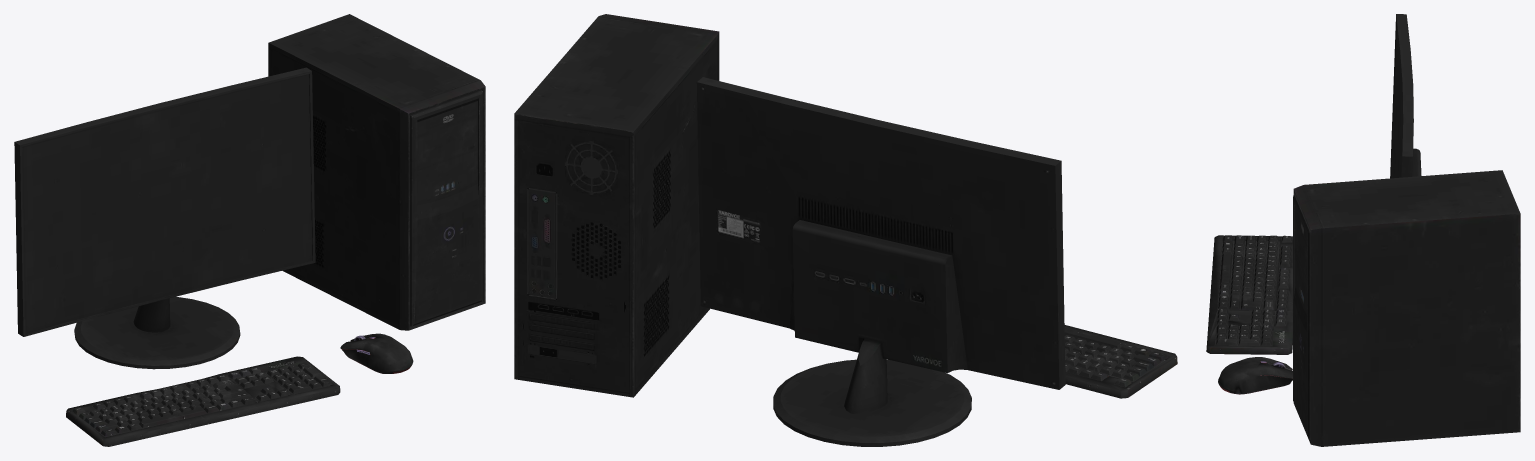
File: pcsetup.glb
The picture shows the model from 3 angles, left to right: view 1: azimuth 30°, elevation 25°; view 2: azimuth 150°, elevation 25°; view 3: azimuth 270°, elevation 25°; orthographic projection. The views are drawn at different scales.
Parts seen in each view (by area): view 1: SM_PC_Box_01; view 2: SM_PC_Box_01; view 3: SM_PC_Box_01.
Boxes of the visible parts, left/top/right/bottom form: SM_PC_Box_01: left=14, top=14, right=485, bottom=446; SM_PC_Box_01: left=514, top=14, right=1177, bottom=446; SM_PC_Box_01: left=1206, top=14, right=1520, bottom=446.
Size of what is drawn, in the model's own units: 0.9557 by 0.4959 by 0.6121.
Materials: 1 (1 with a texture image).
